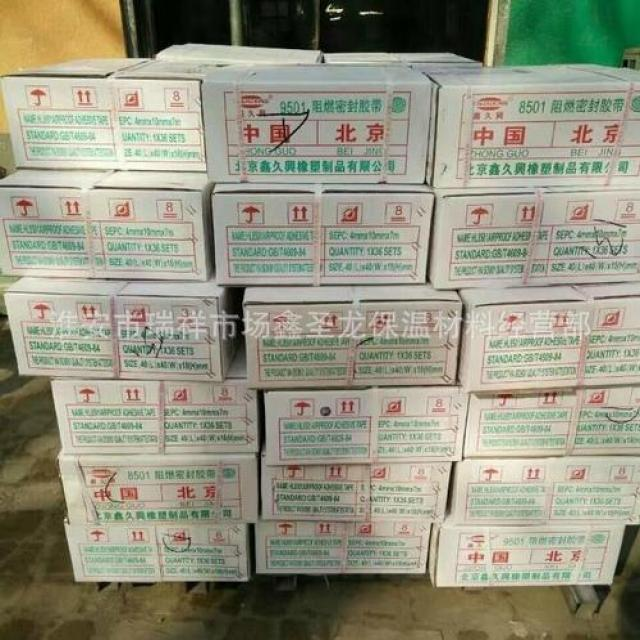box: (193, 61, 431, 192), (423, 63, 640, 193), (0, 271, 236, 381), (0, 50, 204, 174), (211, 181, 437, 292), (236, 282, 460, 390), (0, 171, 212, 285), (429, 184, 639, 290), (455, 280, 640, 396), (261, 382, 471, 473), (48, 370, 264, 456), (53, 446, 267, 530), (425, 506, 628, 591), (257, 448, 456, 528), (460, 381, 640, 462), (452, 448, 640, 525), (57, 512, 251, 583), (249, 512, 435, 581)
